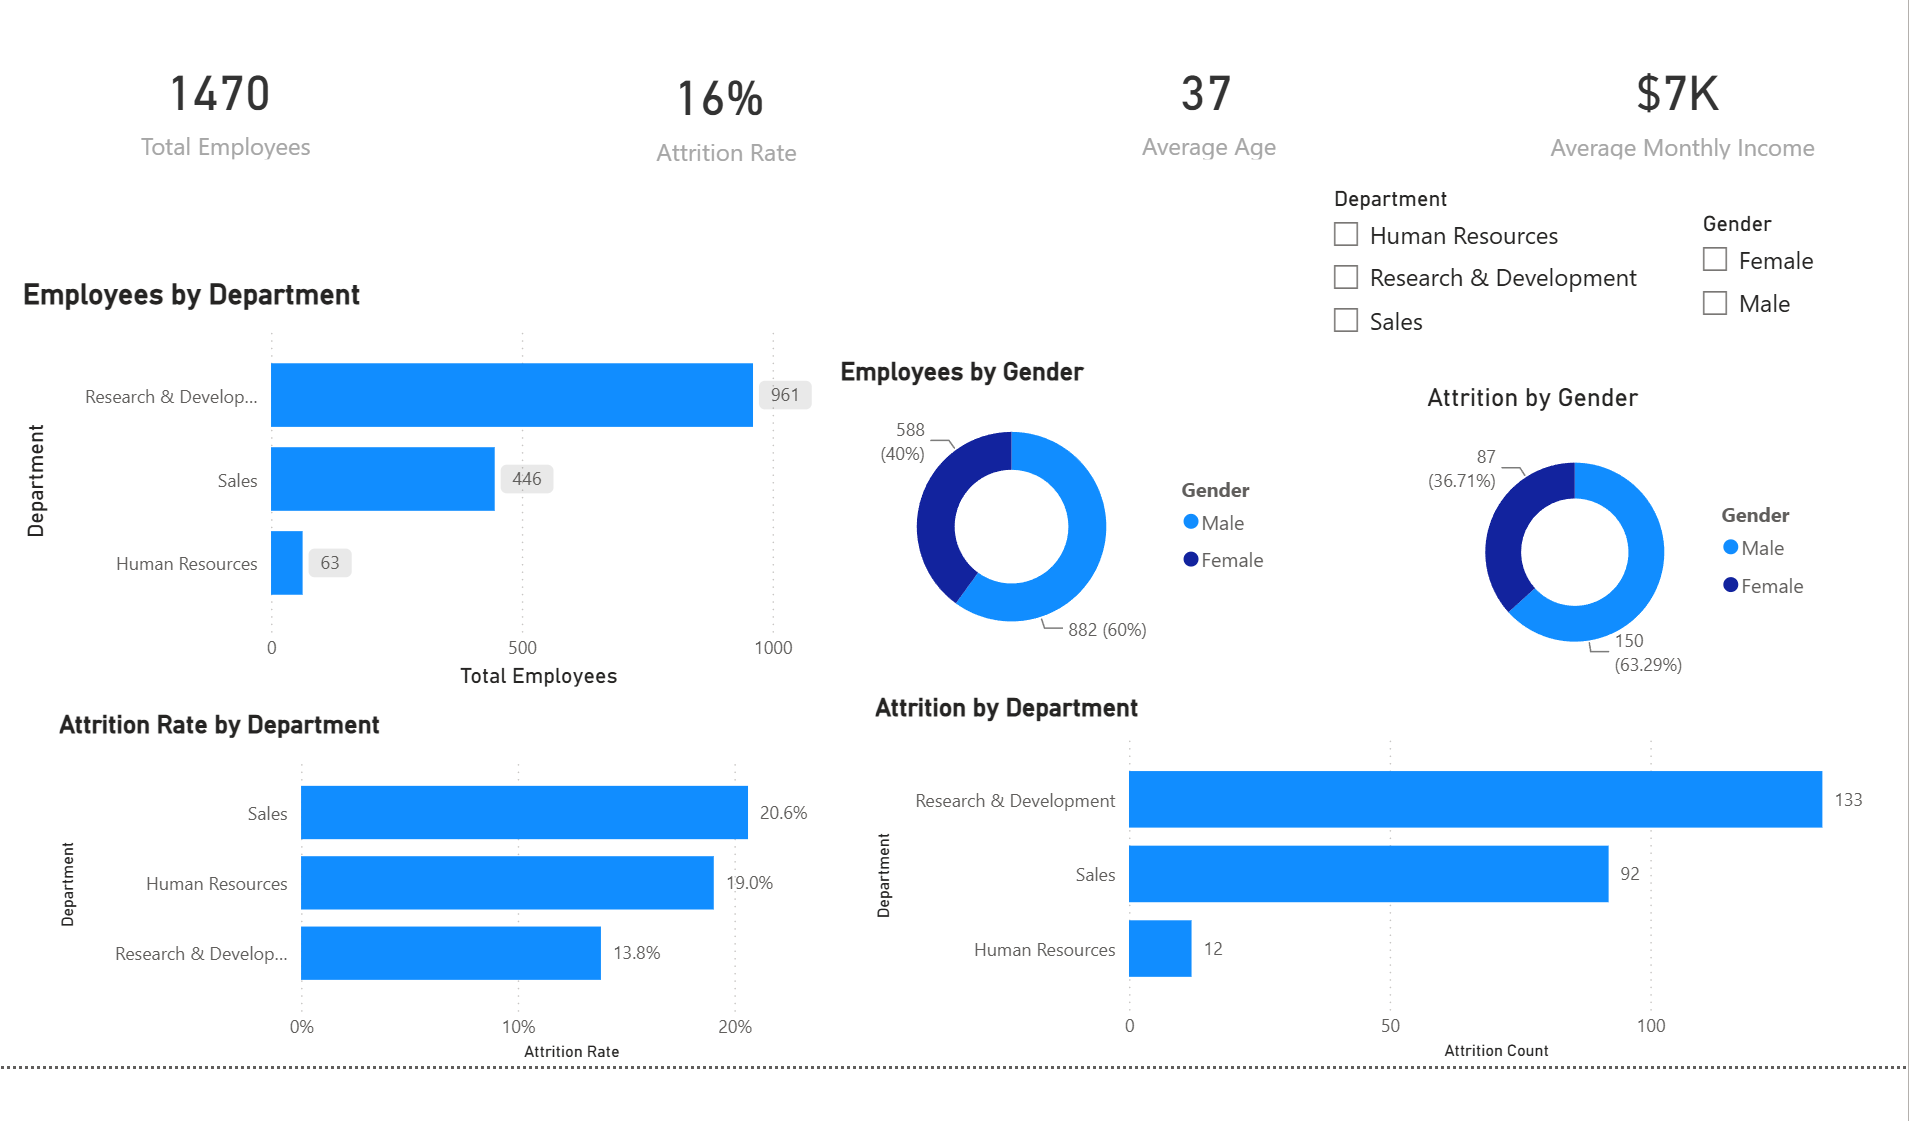

The page's visual inventory and layout, read from the dashboard file:
{"tool":"powerbi","page":{"name":"Workforce Overview","canvas":[1280,720],"ordinal":0},"visuals":[{"type":"advanceCardE03760C5AB684758B56AA29F9E6C257B","fields":{"mainMeasure":["WA_Fn-UseC_-HR-Employee-Attrition (2).Total Employees"]},"box":[35.5,40.1,233.1,76.5],"z":0},{"type":"advanceCardE03760C5AB684758B56AA29F9E6C257B","fields":{"mainMeasure":["WA_Fn-UseC_-HR-Employee-Attrition (2).Attrition Rate"]},"box":[335.9,40.2,303.7,84.5],"z":1000},{"type":"advanceCardE03760C5AB684758B56AA29F9E6C257B","fields":{"mainMeasure":["WA_Fn-UseC_-HR-Employee-Attrition (2).Average Age"]},"box":[659.3,40.1,303.2,76.5],"z":2000},{"type":"advanceCardE03760C5AB684758B56AA29F9E6C257B","fields":{"mainMeasure":["WA_Fn-UseC_-HR-Employee-Attrition (2).Average Monthly Income"]},"box":[977.6,41.2,302.7,75.4],"z":3000},{"type":"clusteredBarChart","title":"Employees by Department","fields":{"Category":["WA_Fn-UseC_-HR-Employee-Attrition (2).Department"],"Y":["WA_Fn-UseC_-HR-Employee-Attrition (2).Total Employees"]},"box":[11.1,191.1,548.1,279.6],"z":4000},{"type":"clusteredBarChart","title":"Attrition by Department","fields":{"Category":["WA_Fn-UseC_-HR-Employee-Attrition (2).Department"],"Y":["WA_Fn-UseC_-HR-Employee-Attrition (2).Attrition Count"]},"box":[582.3,469.7,682.9,250.4],"z":5000},{"type":"clusteredBarChart","title":"Attrition Rate by Department","fields":{"Category":["WA_Fn-UseC_-HR-Employee-Attrition (2).Department"],"Y":["WA_Fn-UseC_-HR-Employee-Attrition (2).Attrition Rate"]},"box":[35.1,480.3,547.2,240.1],"z":6000},{"type":"donutChart","title":"Employees by Gender","fields":{"Y":["WA_Fn-UseC_-HR-Employee-Attrition (2).Total Employees"],"Category":["WA_Fn-UseC_-HR-Employee-Attrition (2).Gender"]},"box":[559.2,244.4,304.7,208.2],"z":7000},{"type":"donutChart","title":"Attrition by Gender","fields":{"Category":["WA_Fn-UseC_-HR-Employee-Attrition (2).Gender"],"Y":["WA_Fn-UseC_-HR-Employee-Attrition (2).Attrition Count"]},"box":[952.5,261.5,273.6,208.2],"z":8000},{"type":"slicer","fields":{"Values":["WA_Fn-UseC_-HR-Employee-Attrition (2).Department"]},"box":[882.1,124.7,239.4,119.7],"z":9000},{"type":"slicer","fields":{"Values":["WA_Fn-UseC_-HR-Employee-Attrition (2).Gender"]},"box":[1129.5,141.8,150.9,86.5],"z":10000}]}

Visuals, with their boxes on the page's 1280x720 design canvas (x1, y1, x2, y2). These are canvas units, not pixel positions in the 1918x1121 screenshot, which may show the page scaled, cropped or inside an application window:
advanceCardE03760C5AB684758B56AA29F9E6C257B - WA_Fn-UseC_-HR-Employee-Attrition (2).Total Employees: <bbox>36, 40, 269, 117</bbox>
advanceCardE03760C5AB684758B56AA29F9E6C257B - WA_Fn-UseC_-HR-Employee-Attrition (2).Attrition Rate: <bbox>336, 40, 640, 125</bbox>
advanceCardE03760C5AB684758B56AA29F9E6C257B - WA_Fn-UseC_-HR-Employee-Attrition (2).Average Age: <bbox>659, 40, 962, 117</bbox>
advanceCardE03760C5AB684758B56AA29F9E6C257B - WA_Fn-UseC_-HR-Employee-Attrition (2).Average Monthly Income: <bbox>978, 41, 1280, 117</bbox>
"Employees by Department" clusteredBarChart: <bbox>11, 191, 559, 471</bbox>
"Attrition by Department" clusteredBarChart: <bbox>582, 470, 1265, 720</bbox>
"Attrition Rate by Department" clusteredBarChart: <bbox>35, 480, 582, 720</bbox>
"Employees by Gender" donutChart: <bbox>559, 244, 864, 453</bbox>
"Attrition by Gender" donutChart: <bbox>952, 262, 1226, 470</bbox>
slicer - WA_Fn-UseC_-HR-Employee-Attrition (2).Department: <bbox>882, 125, 1122, 244</bbox>
slicer - WA_Fn-UseC_-HR-Employee-Attrition (2).Gender: <bbox>1130, 142, 1280, 228</bbox>
